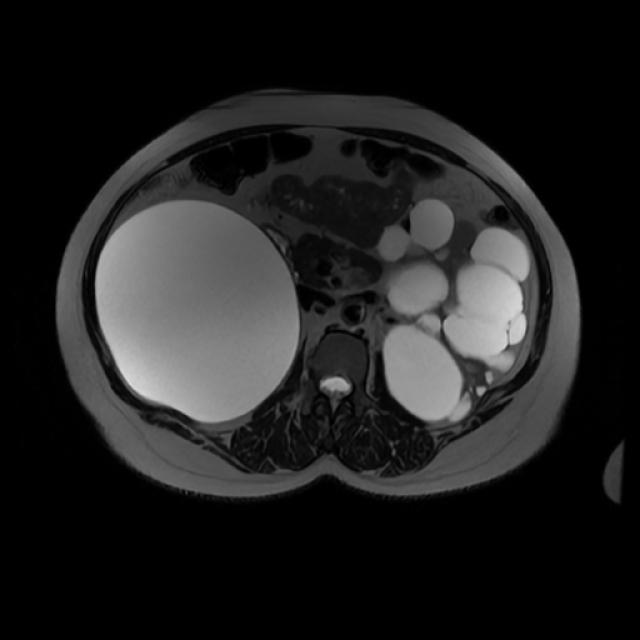sag: (95, 199, 301, 424)
sol: (377, 198, 533, 421)
